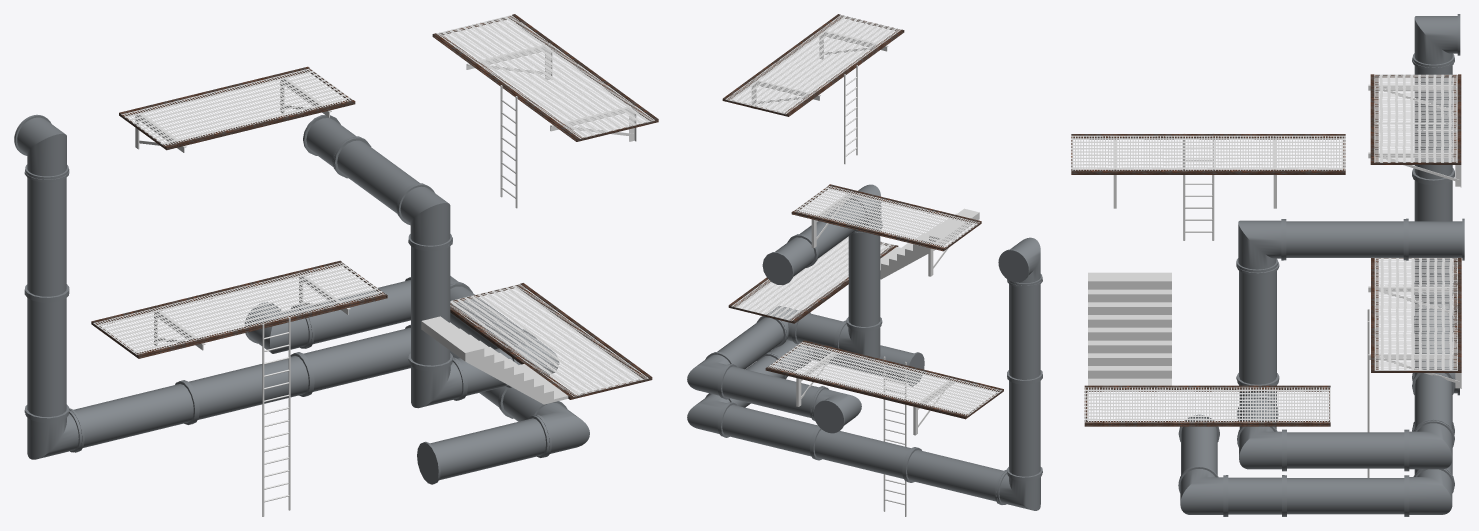
File: Escaleras 2 Paredes Esquina PasillosVerticales v1.fbx
3 views of the same model, side by side, from view 1: azimuth 30°, elevation 25°; view 2: azimuth 150°, elevation 25°; view 3: azimuth 270°, elevation 25° (orthographic). The views are drawn at different scales.
Visible parts, largest first — view 1: Tuberia_5m.023, Cube.007, Tuberia_5m.024, Cube.157, Cube.126, Cube.147, Tuberia_5m.025, Tuberia_5m.030, Plane.052, Tuberia_5m.019, Marco.018, Tuberia_5m.031 (+18 smaller); view 2: Tuberia_5m.023, Cube.007, Cube.157, Tuberia_5m.024, Cube.147, Cube.126, Tuberia_5m.030, Tuberia_5m.019, Marco.018, Marco.011, Tuberia_5m.026, Tuberia_5m.032 (+19 smaller); view 3: Plane.052, Cube.157, Cube.007, Cube.126, Cube.147, Tuberia_5m.024, Tuberia_5m.026, Tuberia_5m.031, Tuberia_5m.028, Tuberia_5m.030, Marco.016, Marco.011 (+17 smaller).
Boxes of the visible parts, x1,y1,x2,y2 form: Tuberia_5m.023: (69,324,410,452); Cube.007: (436,15,654,138); Tuberia_5m.024: (24,169,69,420); Cube.157: (93,262,385,354); Cube.126: (450,284,648,396); Cube.147: (121,68,352,146); Tuberia_5m.025: (417,415,549,484); Tuberia_5m.030: (408,237,452,368); Plane.052: (421,316,568,404); Tuberia_5m.019: (295,277,410,348); Marco.018: (91,260,387,358); Tuberia_5m.031: (333,137,424,217); Tuberia_5m.023: (719,402,1006,504); Cube.007: (725,15,900,114); Cube.157: (768,341,1002,415); Tuberia_5m.024: (1007,277,1042,479); Cube.147: (794,185,979,248); Cube.126: (731,236,894,321); Tuberia_5m.030: (846,227,882,329); Tuberia_5m.019: (719,364,825,420); Marco.018: (765,340,1003,419); Marco.011: (722,14,904,116); Tuberia_5m.026: (714,315,786,369); Tuberia_5m.032: (762,234,817,285); Plane.052: (1088,272,1171,385); Cube.157: (1374,258,1457,370); Cube.007: (1071,135,1345,170); Cube.126: (1084,387,1330,422); Cube.147: (1374,74,1457,162); Tuberia_5m.024: (1412,58,1454,297); Tuberia_5m.026: (1284,429,1406,471); Tuberia_5m.031: (1283,219,1405,260); Tuberia_5m.028: (1284,475,1406,516); Tuberia_5m.030: (1236,261,1279,385); Marco.016: (1084,385,1330,426); Marco.011: (1071,134,1345,174).
Bounding box in the file's own units: 1922 × 1882 × 1552.
